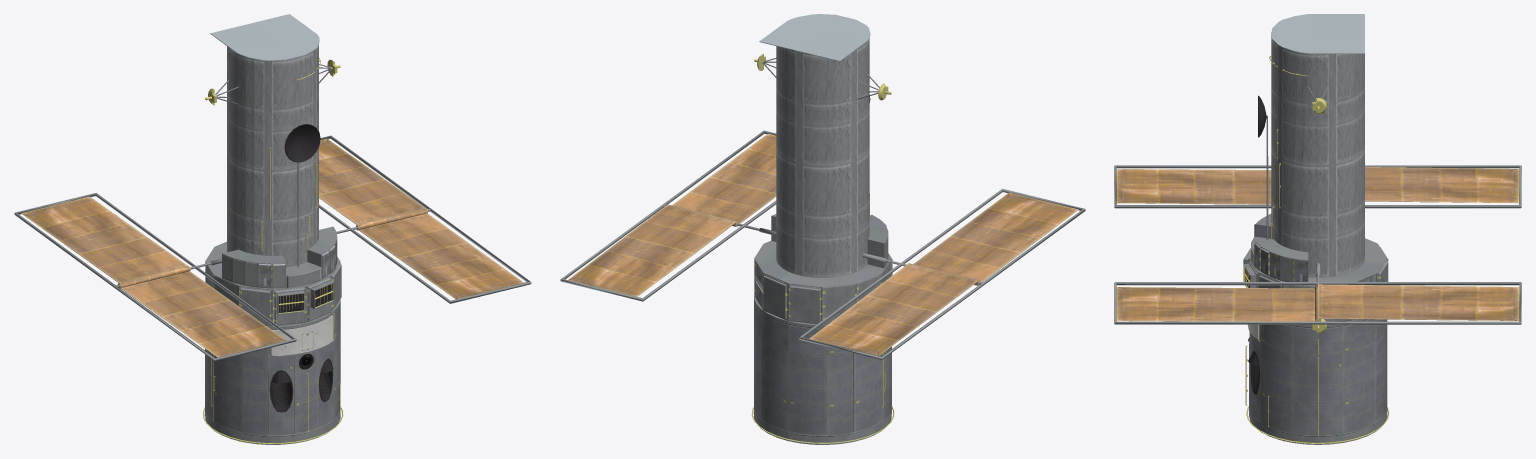
The model's file is hubble.glb.
3 renders of one model, left to right at view 1: azimuth 30°, elevation 25°; view 2: azimuth 150°, elevation 25°; view 3: azimuth 270°, elevation 25°, orthographic.
Parts seen in each view (by area): view 1: Object_3, Object_6, Object_5, Object_4, Object_7; view 2: Object_3, Object_6, Object_5; view 3: Object_3, Object_6, Object_5, Object_4.
Boxes of the visible parts, left/top/right/bottom form: Object_3: left=14, top=14, right=531, bottom=444; Object_6: left=21, top=138, right=523, bottom=421; Object_5: left=227, top=44, right=318, bottom=267; Object_4: left=269, top=124, right=333, bottom=412; Object_7: left=271, top=315, right=333, bottom=355; Object_3: left=560, top=14, right=1085, bottom=444; Object_6: left=568, top=133, right=1078, bottom=355; Object_5: left=776, top=37, right=869, bottom=277; Object_3: left=1114, top=14, right=1521, bottom=444; Object_6: left=1116, top=167, right=1519, bottom=321; Object_5: left=1271, top=37, right=1364, bottom=277; Object_4: left=1245, top=95, right=1266, bottom=394.
Size of the model in its own units: 458 by 525 by 501.
5 materials, 5 textured.
